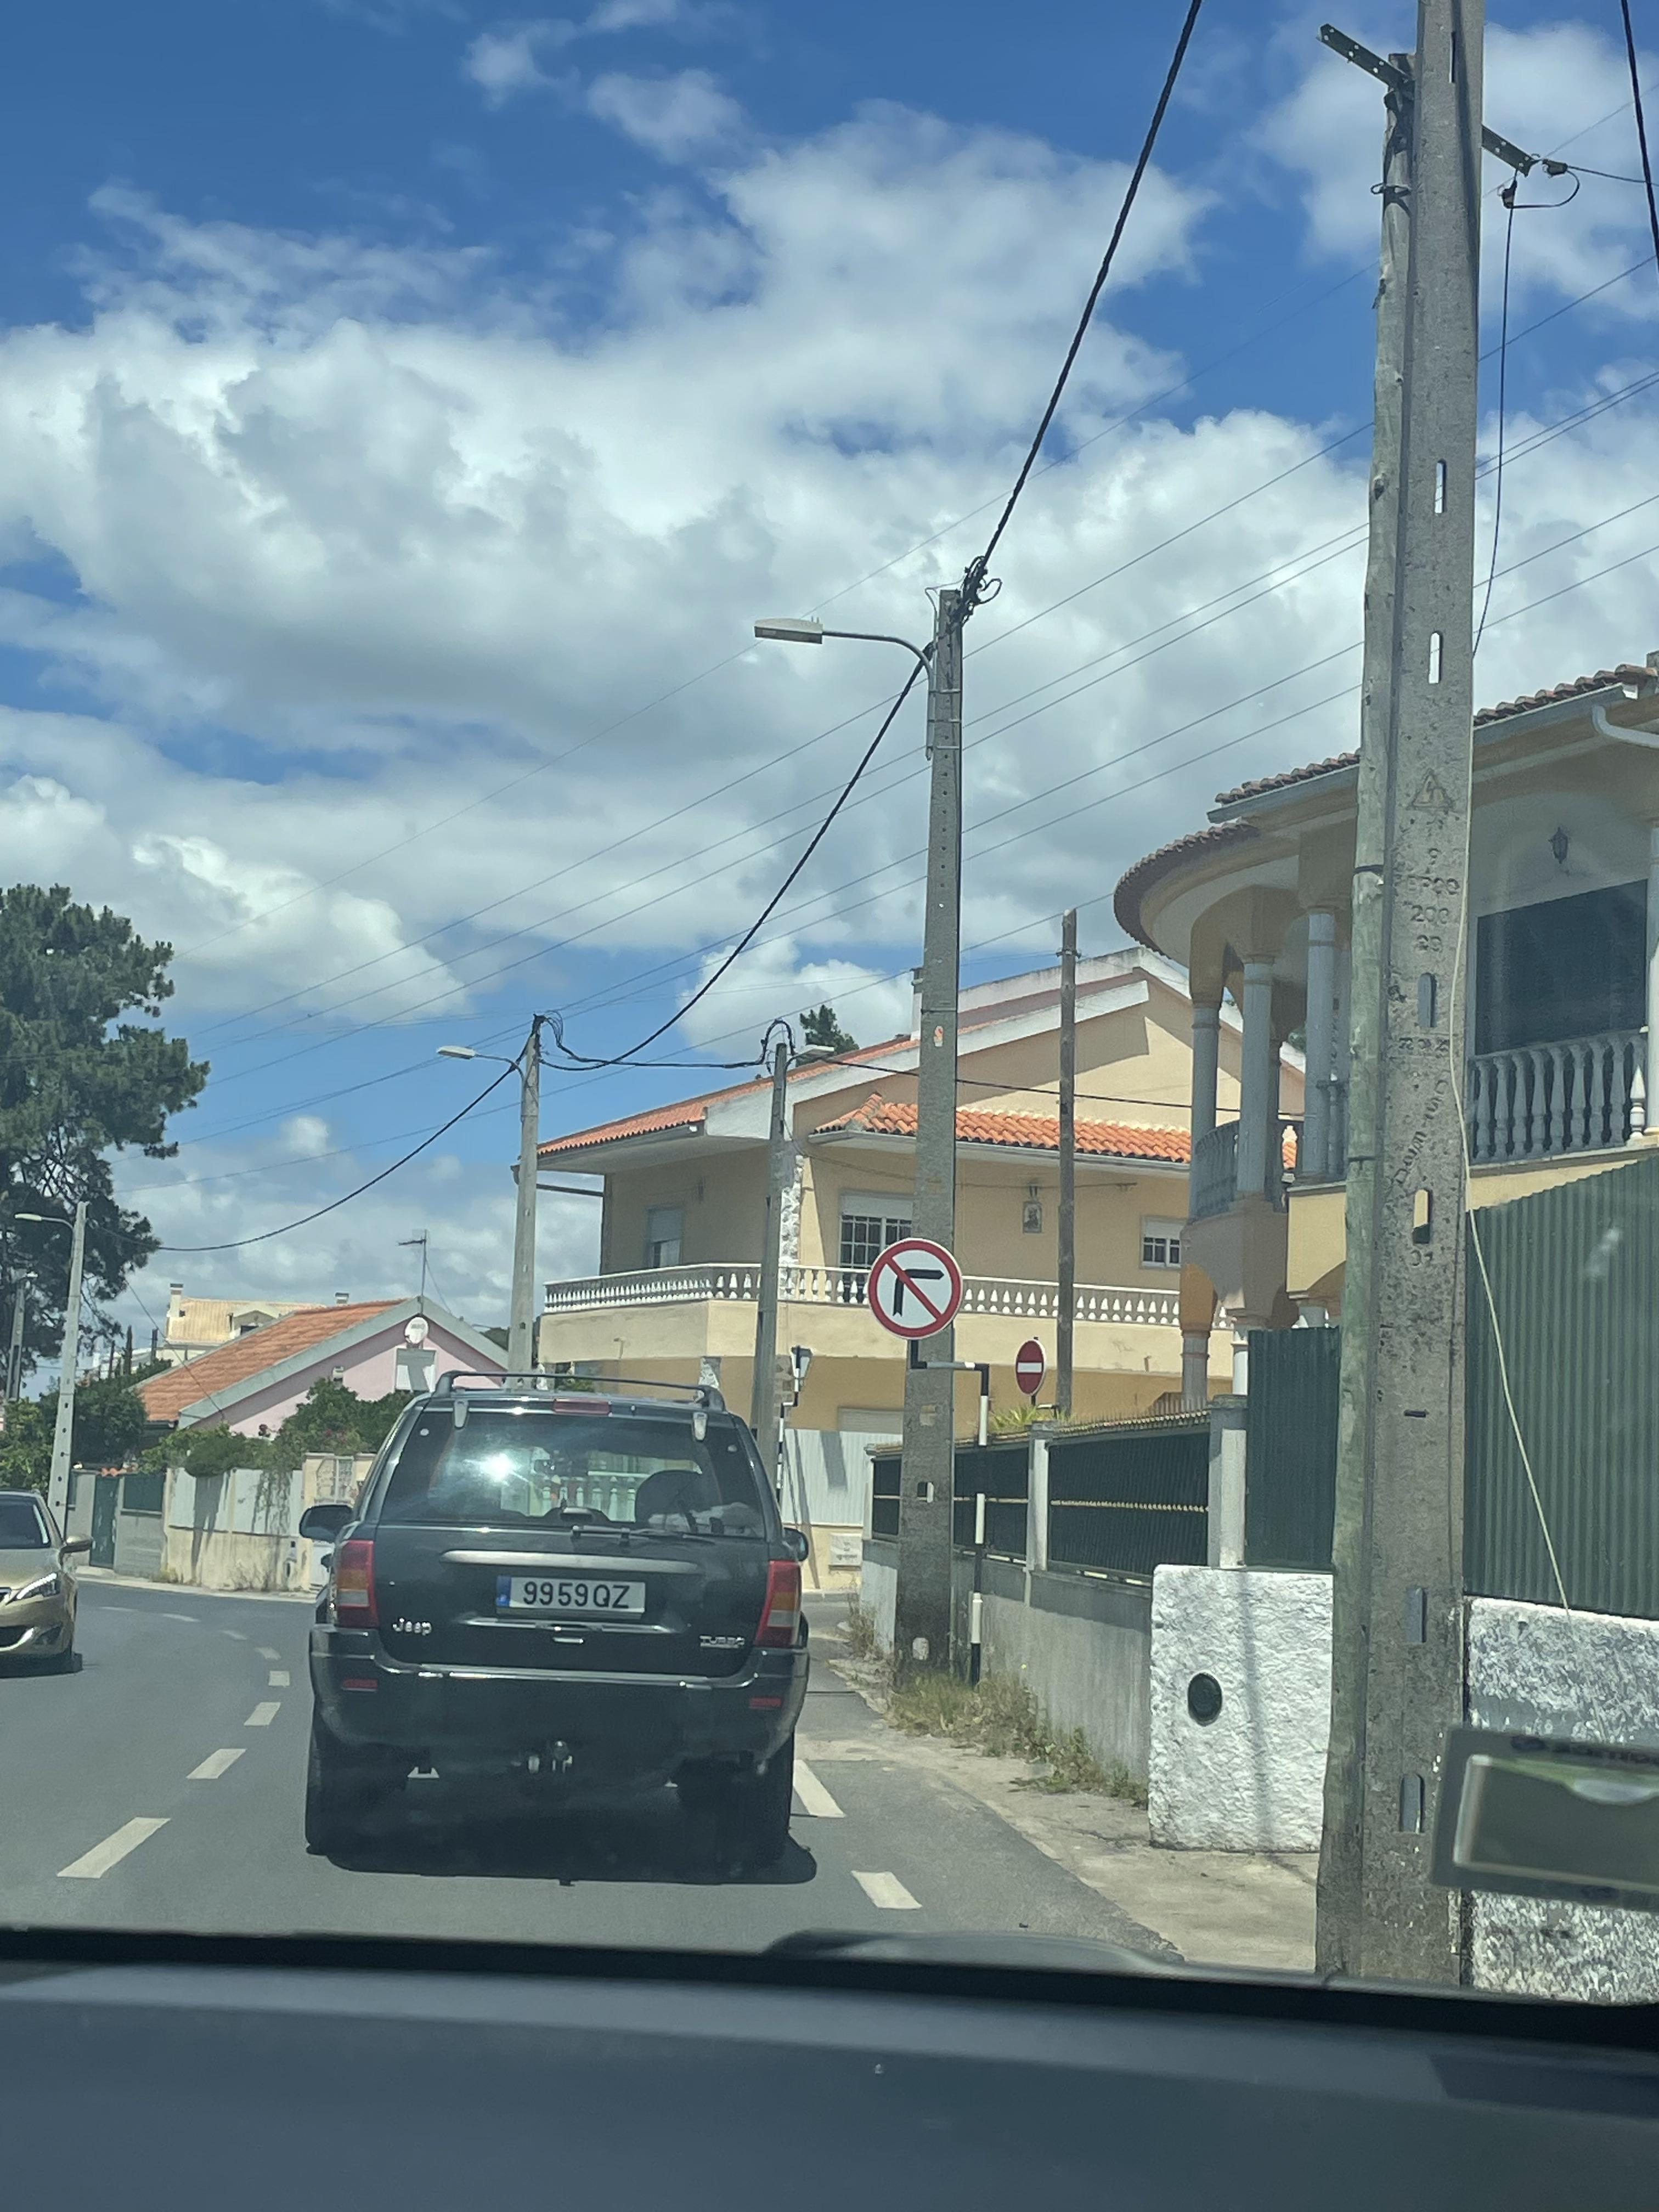proibicao de virar a direita: (856, 1235, 965, 1350)
